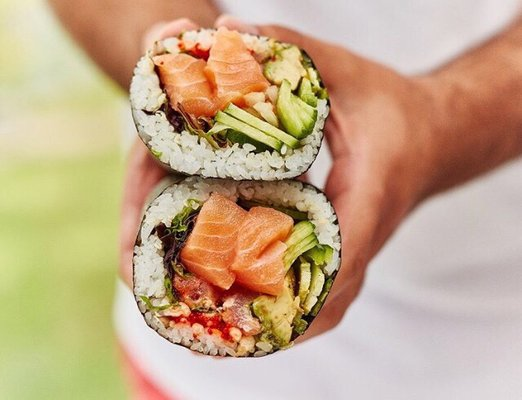soup: (132, 173, 344, 358), (129, 26, 331, 182)
